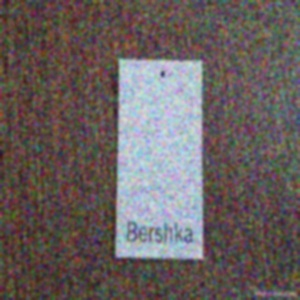bershka: (130, 80, 254, 300)
